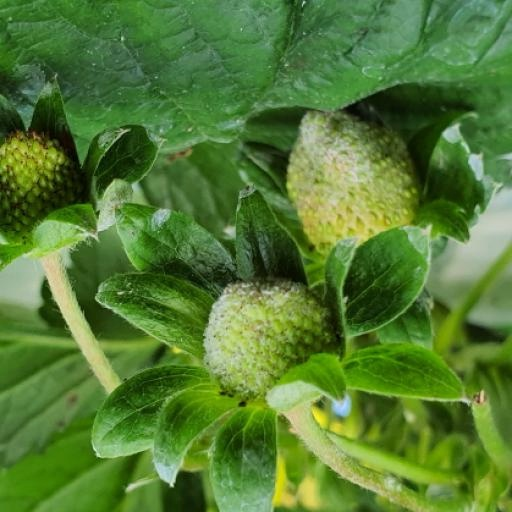Powdery Mildew Fruit: (171, 104, 311, 233), (108, 314, 229, 403)
